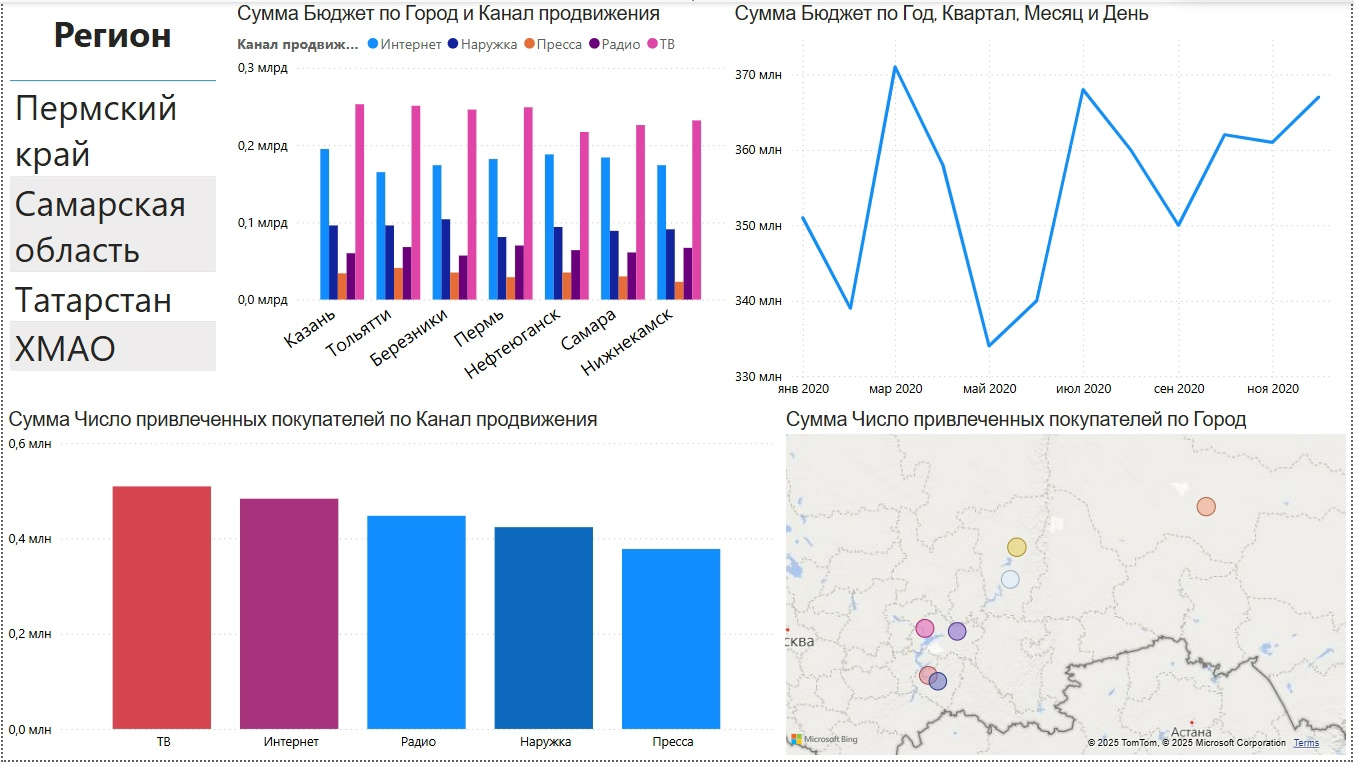

This screenshot's page, from the dashboard's own definition file:
{"tool":"powerbi","page":{"name":"Страница 1","canvas":[1280,720],"ordinal":0},"visuals":[{"type":"clusteredColumnChart","fields":{"Y":["Sum(Лист1.Бюджет)"],"Category":["Лист1.Город"],"Series":["Лист1.Канал продвижения"]},"box":[216.8,0,473.4,385.6],"z":0},{"type":"columnChart","fields":{"Category":["Лист1.Канал продвижения"],"Y":["Sum(Лист1.Число привлеченных покупателей)"]},"box":[0,385.6,738.3,334.8],"z":1000},{"type":"tableEx","fields":{"Values":["Лист1.Регион"]},"box":[0,0,216.8,359.5],"z":2000},{"type":"lineChart","fields":{"Category":["Лист1.Дата.Изменение.Иерархия дат.Год","Лист1.Дата.Изменение.Иерархия дат.Квартал","Лист1.Дата.Изменение.Иерархия дат.Месяц","Лист1.Дата.Изменение.Иерархия дат.День"],"Y":["Sum(Лист1.Бюджет)"]},"box":[690.2,0,590.1,385.6],"z":3000},{"type":"map","fields":{"Category":["Лист1.Город"],"Size":["Sum(Лист1.Число привлеченных покупателей)"]},"box":[738,386,542,334],"z":4000}]}

Visuals, with their boxes in screenshot pixels (x1, y1, x2, y2), scaled from the page's 1280x720 canvas onto the 1354x765 screenshot:
clusteredColumnChart - Sum(Лист1.Бюджет) x Лист1.Город: locate(229, 0, 730, 410)
columnChart - Лист1.Канал продвижения x Sum(Лист1.Число привлеченных покупателей): locate(0, 410, 781, 764)
tableEx - Лист1.Регион: locate(0, 0, 229, 382)
lineChart - Лист1.Дата.Изменение.Иерархия дат.Год x Лист1.Дата.Изменение.Иерархия дат.Квартал: locate(730, 0, 1353, 410)
map - Лист1.Город x Sum(Лист1.Число привлеченных покупателей): locate(781, 410, 1353, 764)
